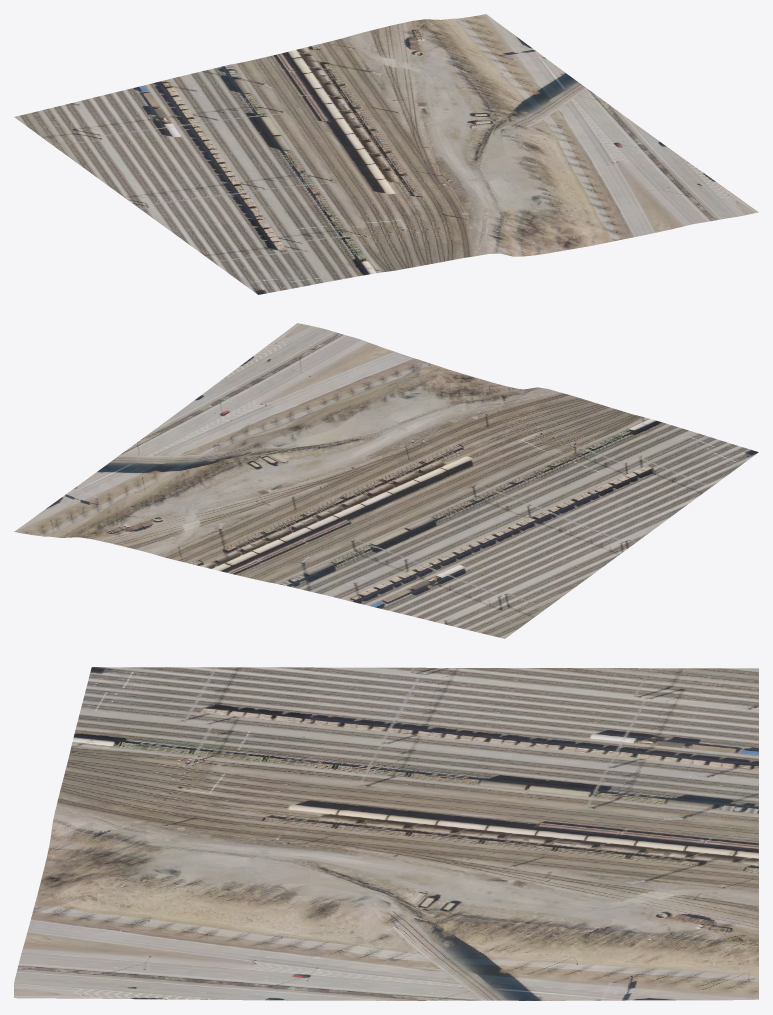
File: CM_Terrain_24487797_6818770.fbx
3 views of the same model, one above another, from view 1: azimuth 30°, elevation 25°; view 2: azimuth 150°, elevation 25°; view 3: azimuth 270°, elevation 25° (orthographic). The views are drawn at different scales.
Parts seen in each view (by area): view 1: CM_Terrain_24487797_6818770_LOD0; view 2: CM_Terrain_24487797_6818770_LOD0; view 3: CM_Terrain_24487797_6818770_LOD0.
Boxes of the visible parts, x1,y1,x2,y2 form: CM_Terrain_24487797_6818770_LOD0: (14, 14, 758, 294); CM_Terrain_24487797_6818770_LOD0: (14, 323, 758, 638); CM_Terrain_24487797_6818770_LOD0: (14, 667, 758, 1000).
Size of what is drawn, in the model's own units: 205 by 6.28 by 205.
